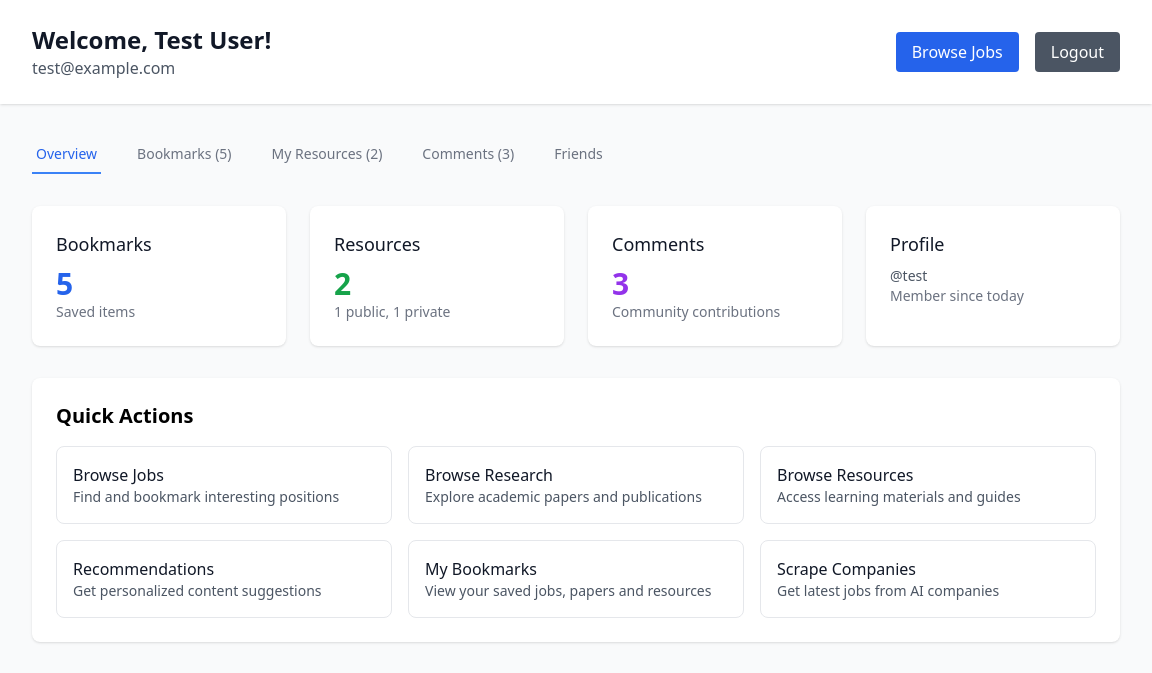
Authentication Flow Integration › maintains authentication state during dashboard operations
Expected: the heading "Welcome, Test User!" is shown, [32,24,271,56]
Expected: the text "test@example.com" is shown, [32,57,175,79]
Switch to bookmarks tab
Click the button "Bookmarks (5)".
click(184, 155)  # box [133,136,236,174]
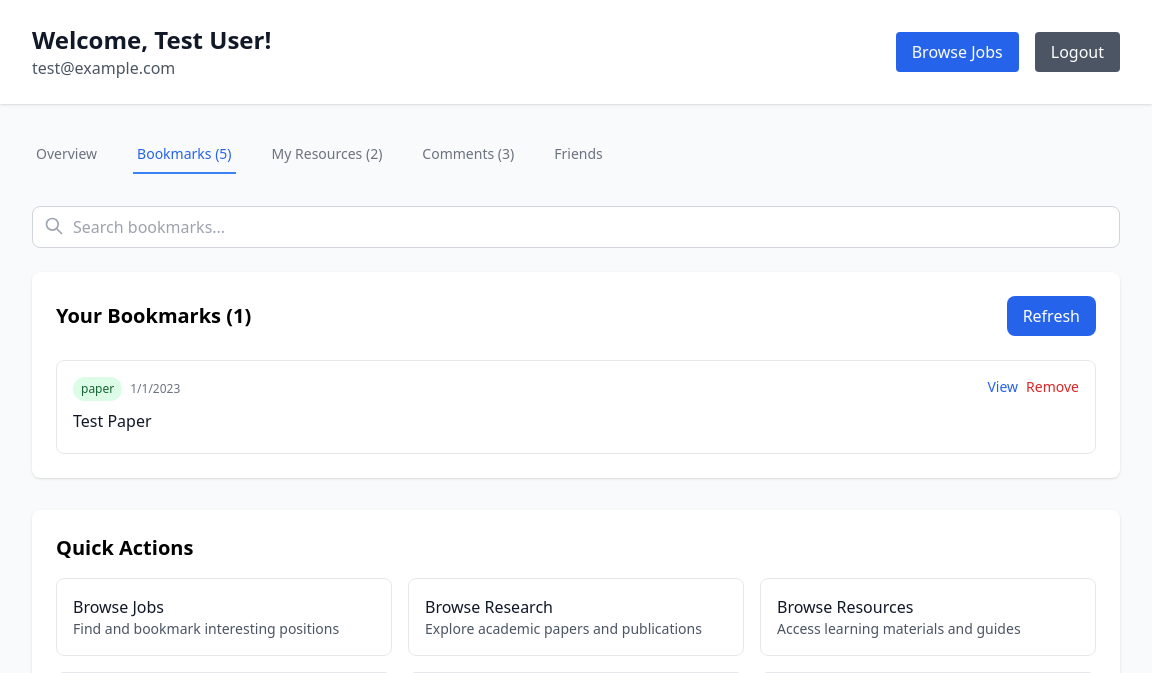
Now the heading "Test Paper" is shown, box [73,410,152,432]
